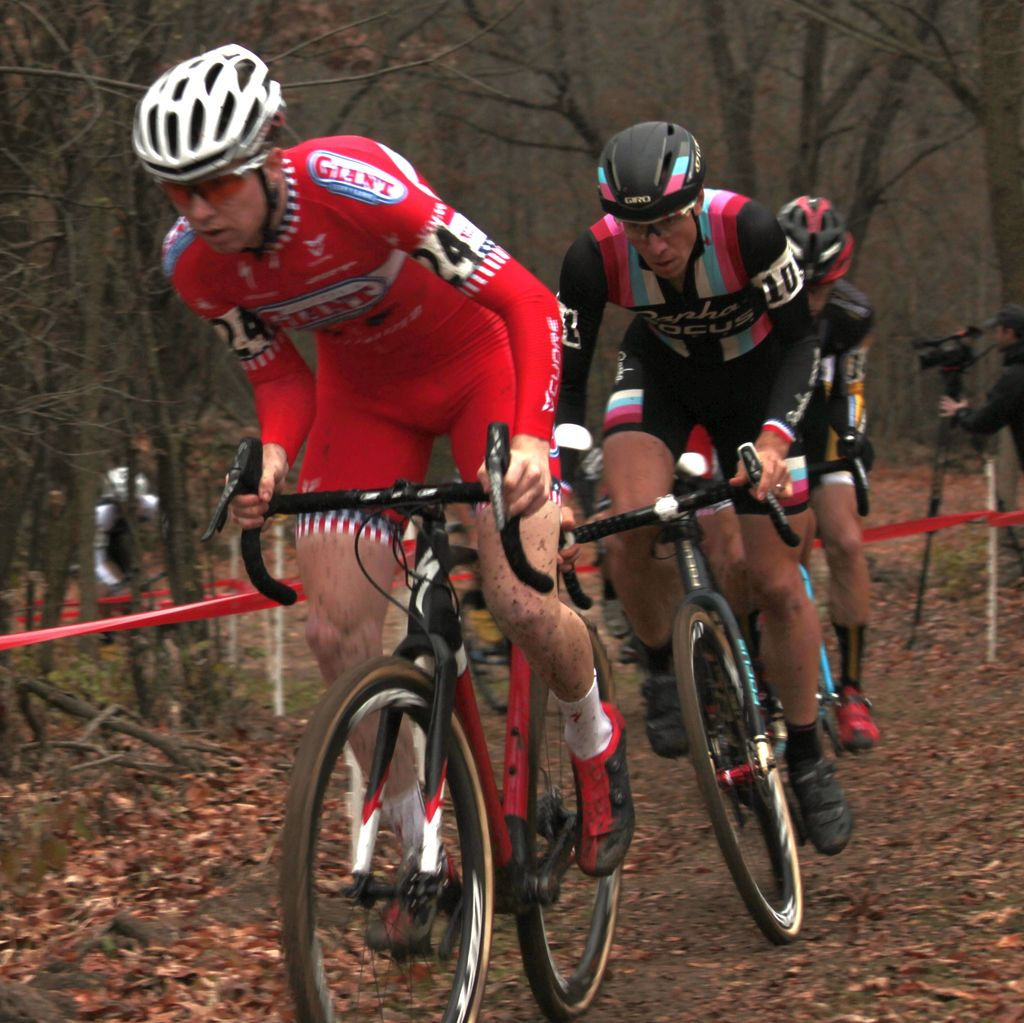Bike_toward: (203, 423, 643, 1012), (580, 445, 856, 945)
